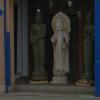Statue: (31, 3, 80, 86)
